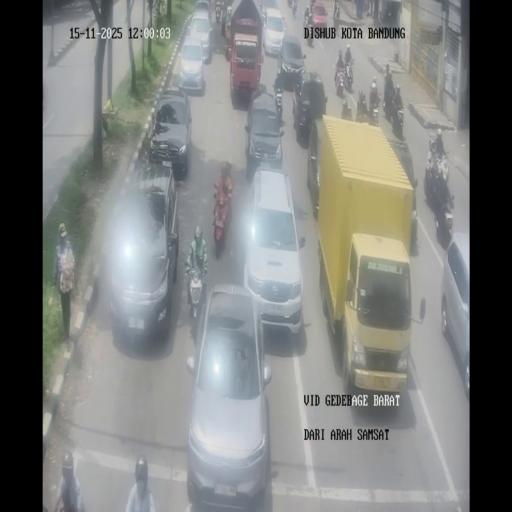car: (185, 284, 273, 506), (108, 161, 178, 342), (243, 168, 304, 336), (441, 235, 469, 400), (149, 88, 192, 176), (244, 90, 284, 179), (293, 72, 326, 144), (277, 33, 306, 88), (188, 8, 212, 62), (262, 8, 286, 56), (310, 2, 328, 28), (196, 0, 210, 16)
motorcycle: (336, 52, 398, 130), (212, 184, 232, 255), (187, 257, 207, 325), (436, 197, 454, 245), (425, 152, 438, 192), (438, 149, 450, 181), (334, 67, 346, 98), (274, 84, 283, 124), (355, 102, 369, 124), (344, 62, 354, 92), (341, 98, 353, 121), (381, 91, 390, 119), (395, 104, 404, 128), (372, 102, 380, 126), (384, 63, 392, 87), (260, 2, 267, 25), (304, 5, 312, 25), (214, 2, 222, 22), (344, 46, 352, 66), (333, 0, 340, 21), (371, 77, 378, 97), (362, 0, 370, 17), (291, 0, 297, 17), (210, 0, 216, 17), (378, 9, 384, 23)
truck: (314, 115, 417, 398), (227, 0, 265, 103), (223, 2, 234, 56)
